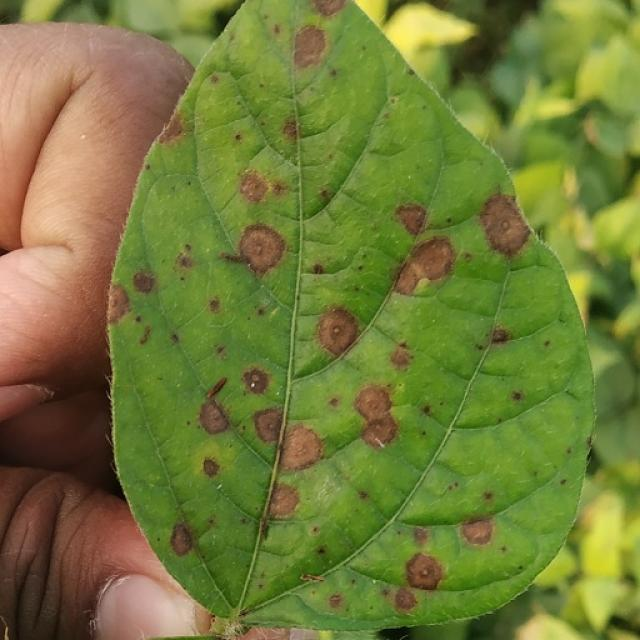Anthracnose: (463, 195, 537, 260), (392, 236, 457, 297), (237, 223, 288, 277), (278, 423, 325, 472), (315, 307, 361, 357), (404, 551, 445, 592), (353, 384, 393, 423), (293, 26, 328, 68), (360, 414, 398, 450), (239, 170, 278, 205), (267, 481, 302, 520), (198, 398, 231, 436), (252, 407, 284, 444), (394, 202, 428, 235), (106, 284, 132, 322), (157, 109, 185, 144), (461, 518, 495, 546), (169, 523, 194, 557), (241, 367, 271, 395), (309, 0, 345, 17), (393, 587, 418, 611), (389, 344, 412, 370), (132, 270, 156, 294), (281, 120, 299, 142), (202, 458, 221, 478), (412, 526, 430, 545), (491, 327, 511, 344), (138, 324, 152, 345), (257, 515, 269, 539), (177, 253, 193, 270), (328, 593, 343, 609), (208, 297, 222, 314), (311, 263, 324, 275), (511, 390, 523, 401), (587, 434, 595, 449), (316, 545, 327, 555), (234, 133, 242, 141)
Blackgram: (104, 0, 596, 639)
